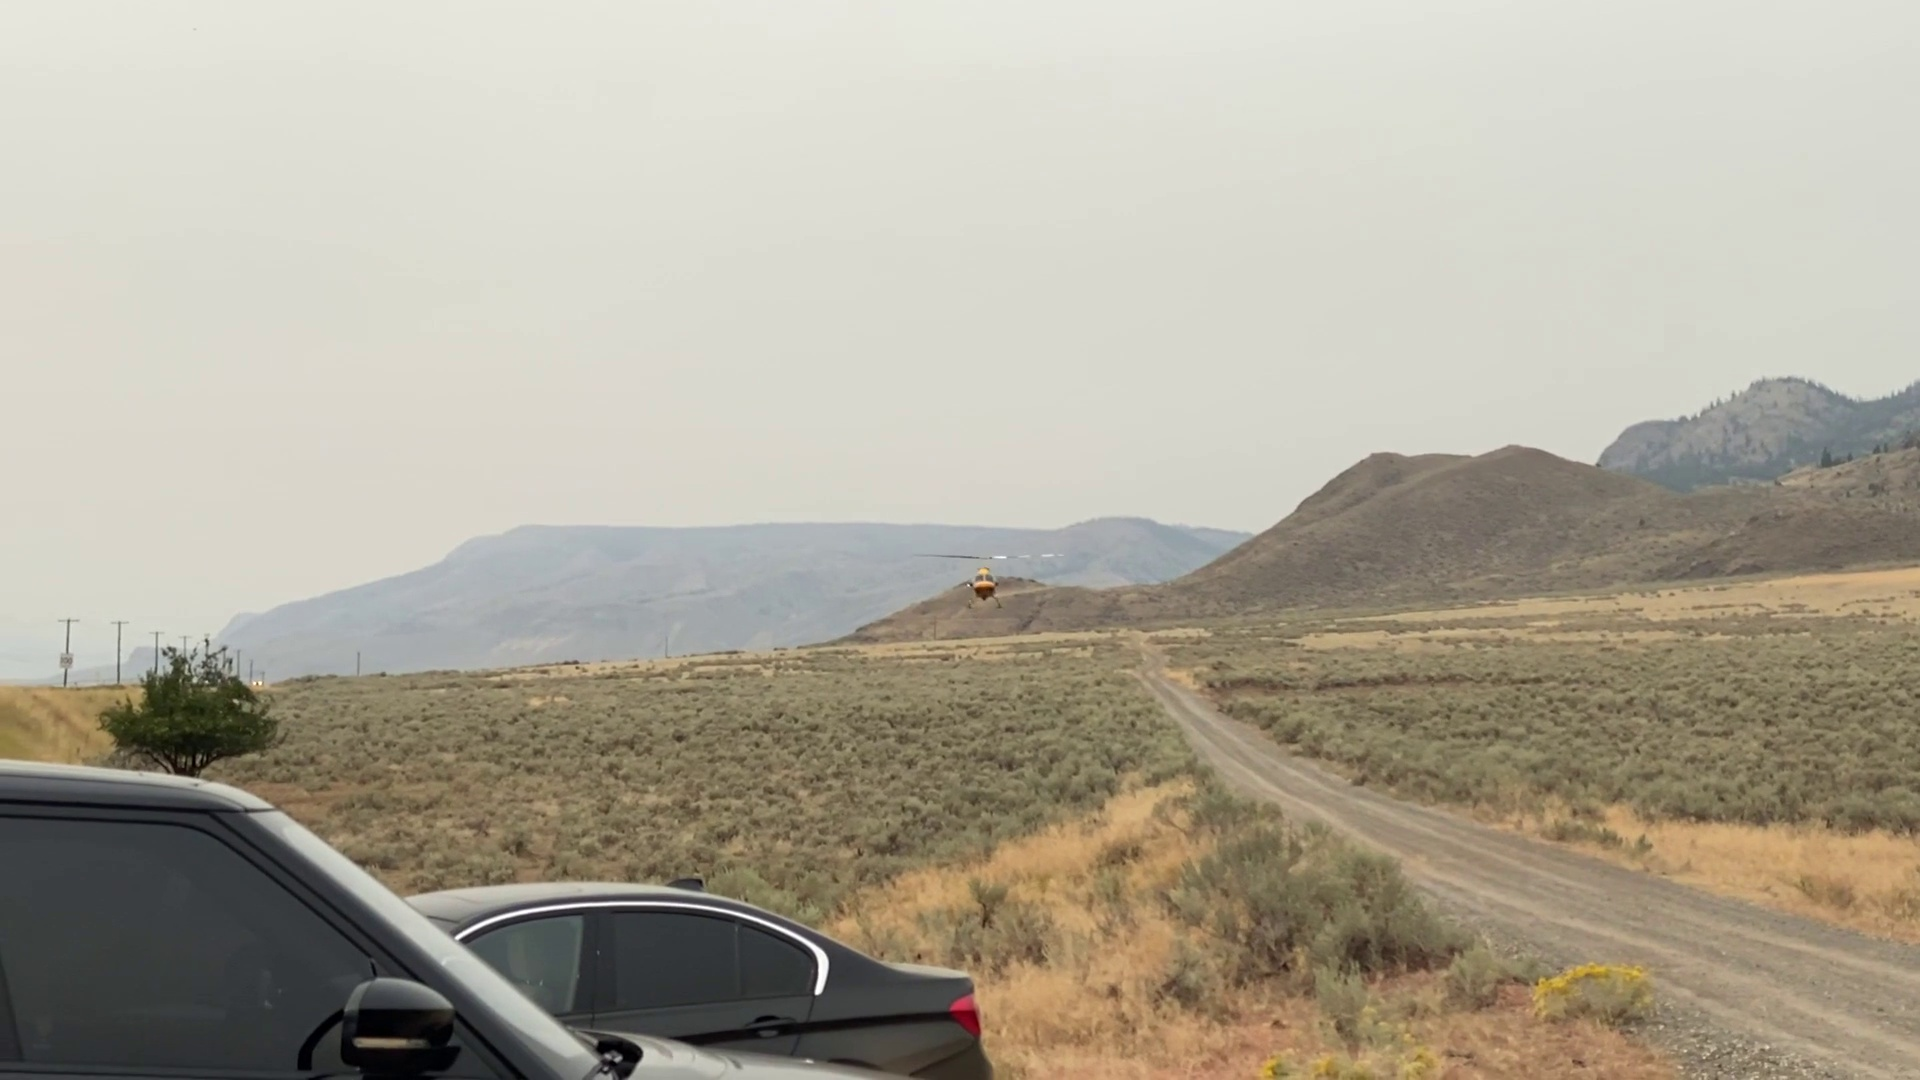heli: (916, 549, 1063, 608)
